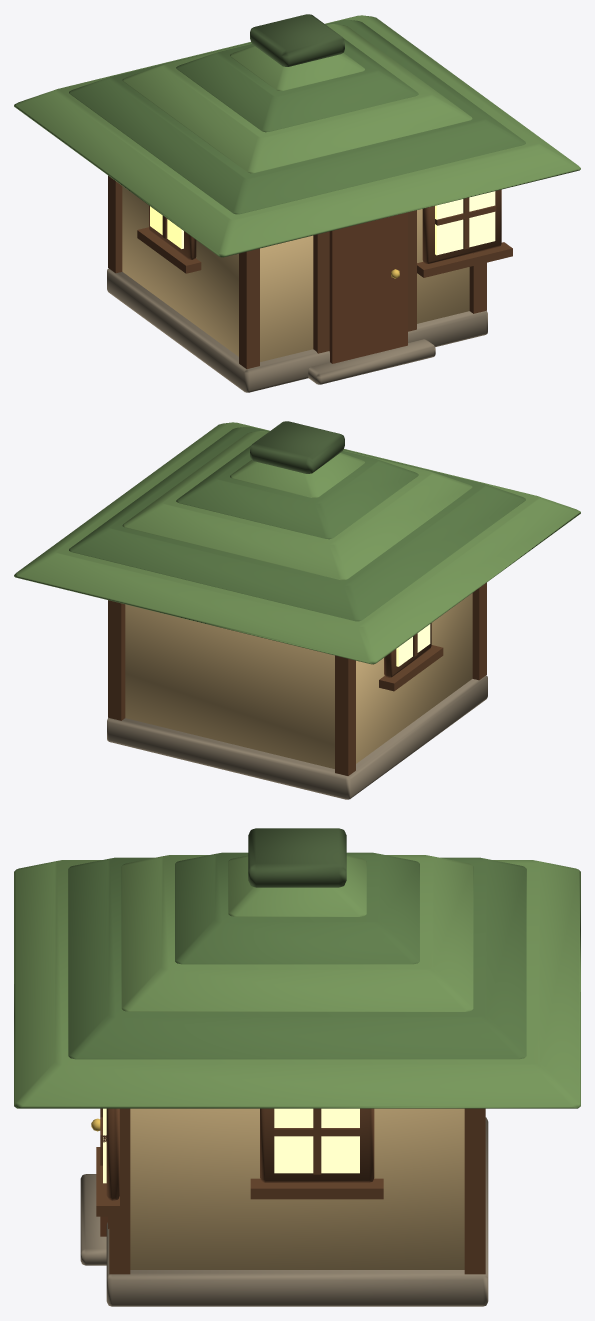
Rendered from v_hut.glb.
3 views of the same model, one above another, from view 1: azimuth 30°, elevation 25°; view 2: azimuth 150°, elevation 25°; view 3: azimuth 270°, elevation 25° (orthographic). The views are drawn at different scales.
Visible parts, largest first — view 1: Hut; view 2: Hut; view 3: Hut.
Boxes of the visible parts, box(x1,y1,x2,y2) form: Hut: box(14, 14, 580, 392); Hut: box(14, 421, 580, 799); Hut: box(14, 828, 580, 1306).
Size of the model in its own units: 4.31 by 3.21 by 4.31.
